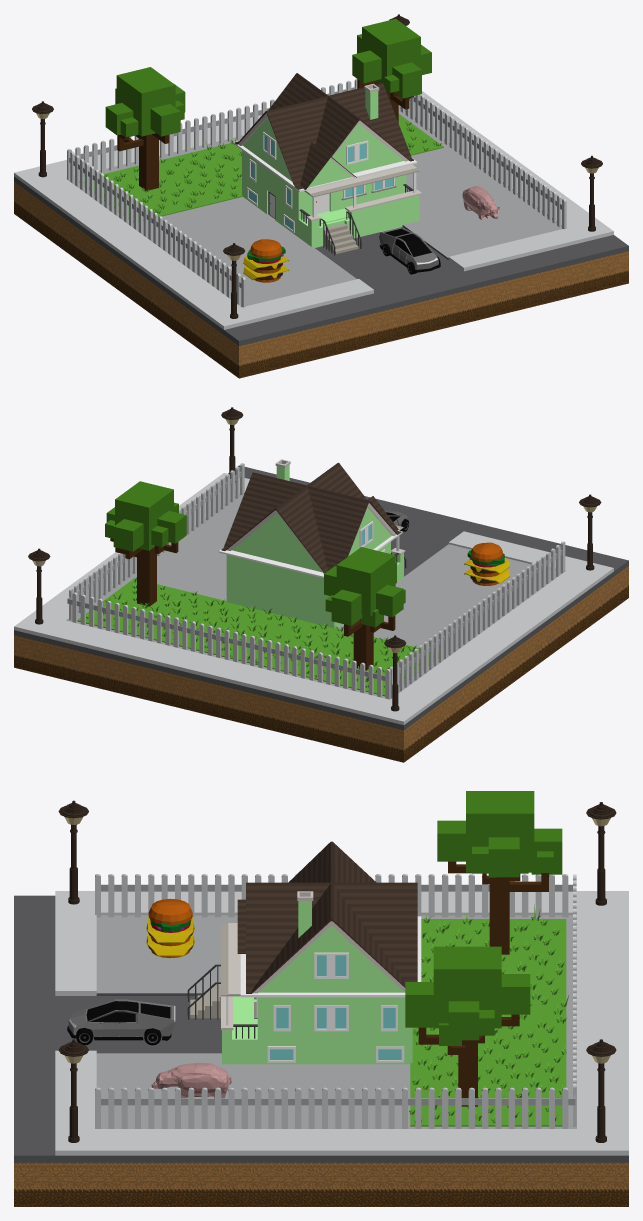
The picture shows the model from 3 angles, top to bottom: view 1: azimuth 30°, elevation 25°; view 2: azimuth 150°, elevation 25°; view 3: azimuth 270°, elevation 25°; orthographic projection. The views are drawn at different scales.
Parts seen in each view (by area): view 1: Cube.004, Cube.274, VEHICLES_CYBERTRUCK, OBJRANDOM_HAMBURGER, ANIMAL_HIPOPOTAMO; view 2: Cube.004, Cube.274, OBJRANDOM_HAMBURGER; view 3: Cube.004, Cube.274, VEHICLES_CYBERTRUCK, OBJRANDOM_HAMBURGER, ANIMAL_HIPOPOTAMO.
Part boxes in pixels (bbox=[...]): Cube.004: bbox=[14, 14, 628, 378]; Cube.274: bbox=[233, 73, 422, 255]; VEHICLES_CYBERTRUCK: bbox=[379, 227, 440, 274]; OBJRANDOM_HAMBURGER: bbox=[243, 239, 289, 282]; ANIMAL_HIPOPOTAMO: bbox=[462, 186, 499, 219]; Cube.004: bbox=[14, 407, 628, 762]; Cube.274: bbox=[218, 459, 406, 627]; OBJRANDOM_HAMBURGER: bbox=[464, 542, 509, 585]; Cube.004: bbox=[14, 791, 628, 1206]; Cube.274: bbox=[187, 841, 421, 1064]; VEHICLES_CYBERTRUCK: bbox=[67, 999, 175, 1045]; OBJRANDOM_HAMBURGER: bbox=[146, 898, 194, 957]; ANIMAL_HIPOPOTAMO: bbox=[151, 1063, 231, 1098].
Bounding box in the file's own units: 4000 × 1753 × 4000.
35 materials, 3 textured.
